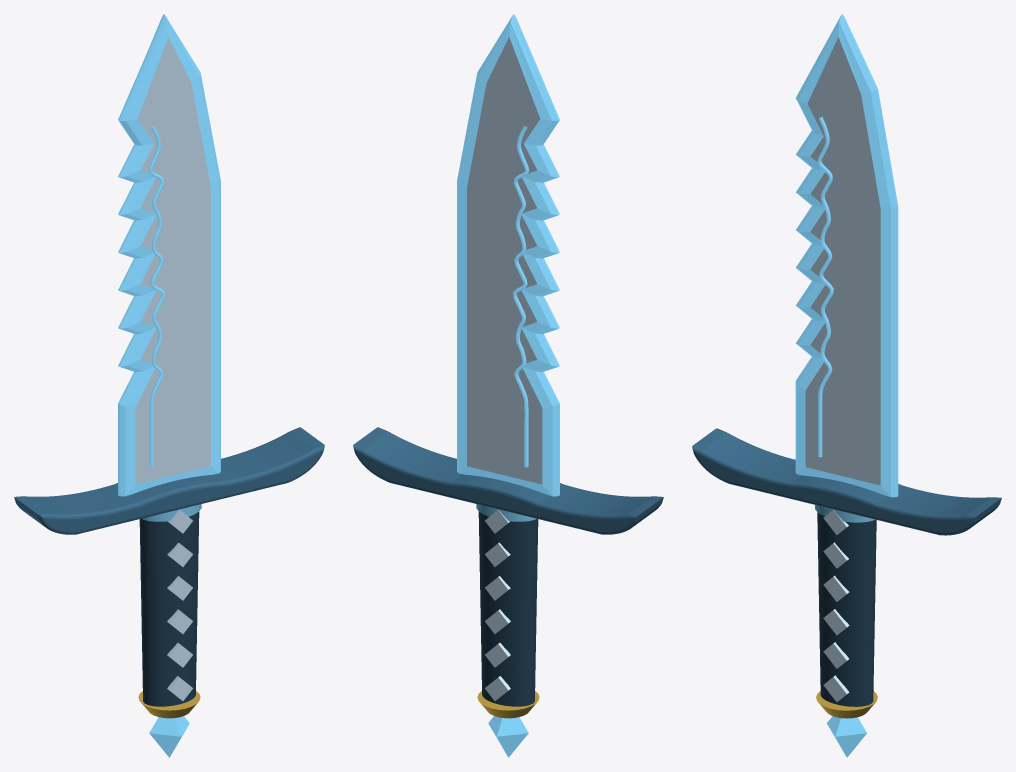
File: 20_Rare_Frost_Fang.glb
3 views of the same model, side by side, from view 1: azimuth 30°, elevation 25°; view 2: azimuth 150°, elevation 25°; view 3: azimuth 330°, elevation 25° (orthographic).
Parts seen in each view (by area): view 1: blade_1, guard_wing_0, handle_3, blade_inlay_20, pommel_gem_18, pommel_cap_17; view 2: blade_1, guard_wing_0, handle_3, blade_inlay_19, pommel_gem_18, pommel_cap_17; view 3: blade_1, guard_wing_0, handle_3, blade_inlay_20, pommel_gem_18, pommel_cap_17.
Part boxes in pixels (left/top/right/bottom): blade_1: left=118, top=14, right=220, bottom=496; guard_wing_0: left=14, top=427, right=324, bottom=534; handle_3: left=139, top=511, right=199, bottom=706; blade_inlay_20: left=148, top=125, right=164, bottom=467; pommel_gem_18: left=149, top=716, right=189, bottom=757; pommel_cap_17: left=138, top=691, right=200, bottom=718; blade_1: left=457, top=14, right=559, bottom=496; guard_wing_0: left=353, top=427, right=663, bottom=534; handle_3: left=478, top=511, right=538, bottom=706; blade_inlay_19: left=513, top=125, right=529, bottom=467; pommel_gem_18: left=488, top=716, right=528, bottom=757; pommel_cap_17: left=477, top=691, right=539, bottom=718; blade_1: left=795, top=14, right=898, bottom=497; guard_wing_0: left=692, top=428, right=1001, bottom=535; handle_3: left=817, top=512, right=876, bottom=706; blade_inlay_20: left=817, top=117, right=833, bottom=457; pommel_gem_18: left=827, top=716, right=866, bottom=757; pommel_cap_17: left=816, top=691, right=877, bottom=718.
Bounding box in the file's own units: 0.2534 × 0.6296 × 0.0476.
Materials: 9 (9 with a texture image).
